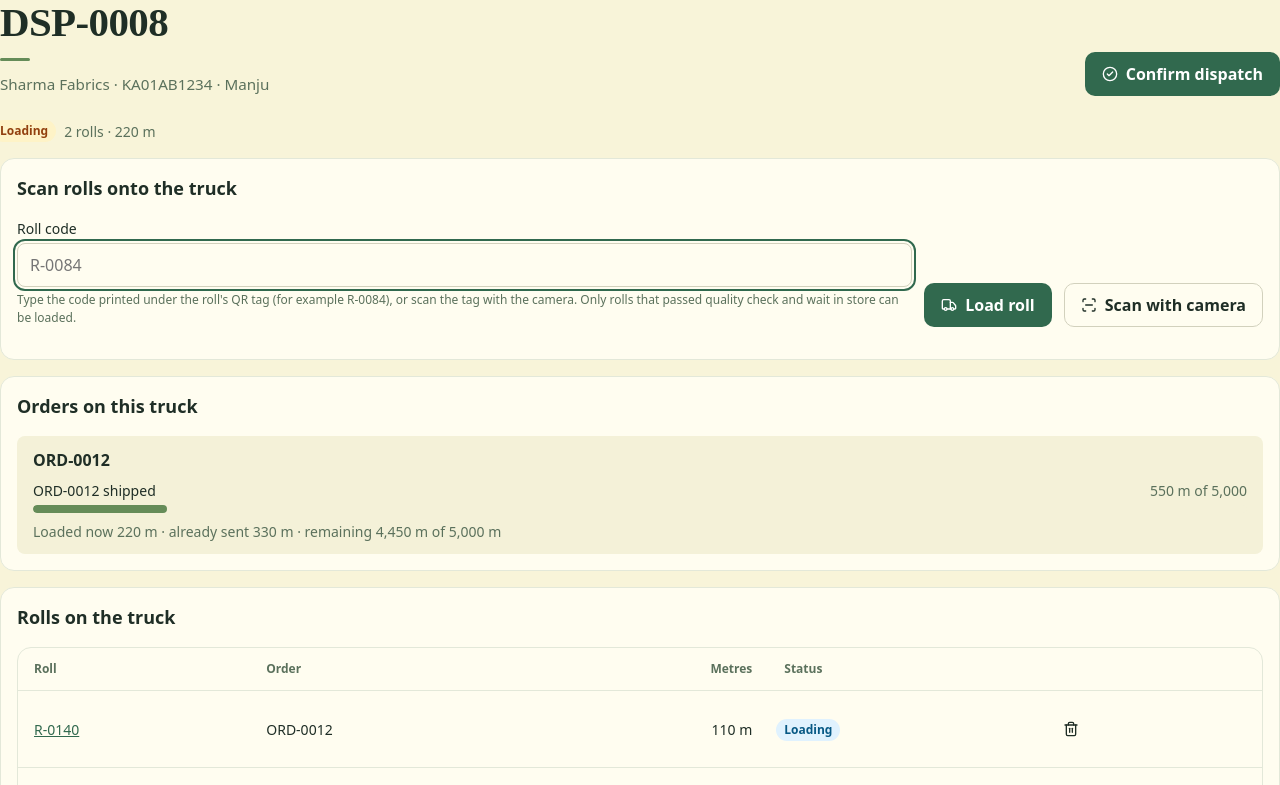
DispatchDetail: loading a truck › loads a roll typed or scanned into the field, with Enter
In the field labelled "Roll code": (465, 265) [17, 243, 912, 287], type "R-0150"
Then press Enter
(page scrolled)
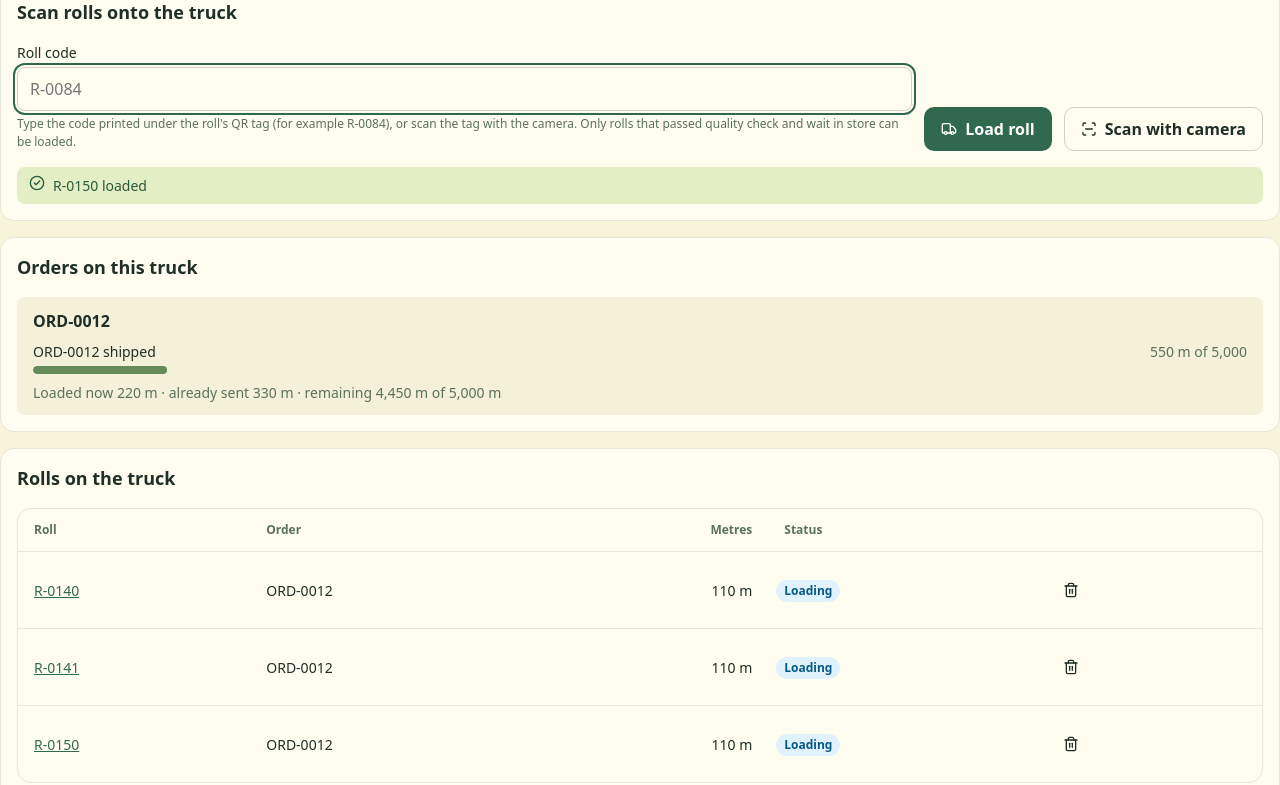
Now the row "R-0150 ORD-0012 110 m Loading" is shown, box [18, 706, 1262, 782]
